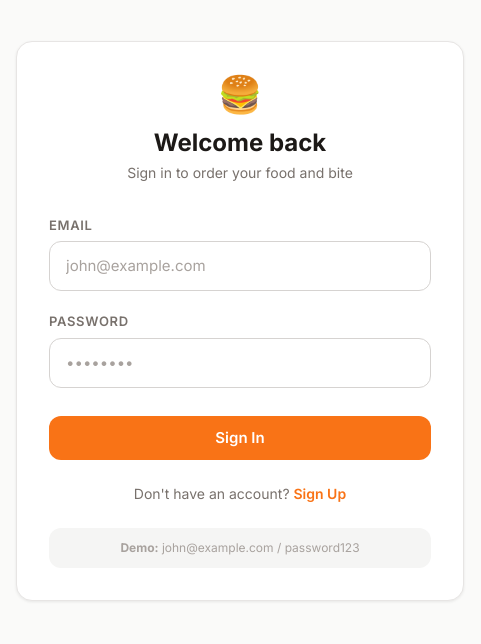
Scenario: LoginPage › shows error for invalid email format
Type "test@example" into the field labelled "Email" at (240, 266), box [49, 241, 431, 291]
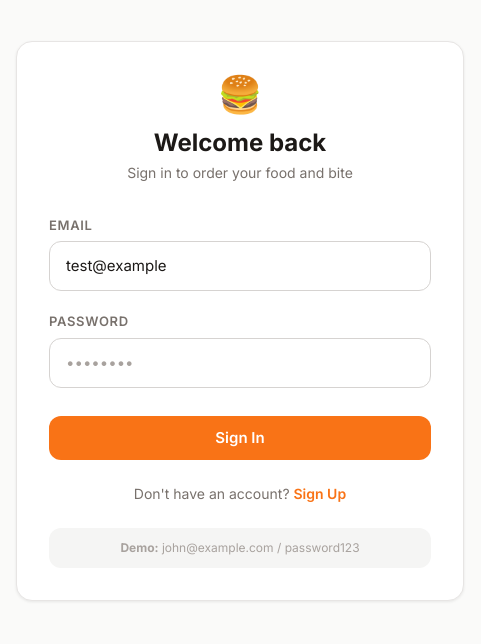
Click the button "Sign In" at (240, 438), box [49, 416, 431, 460]
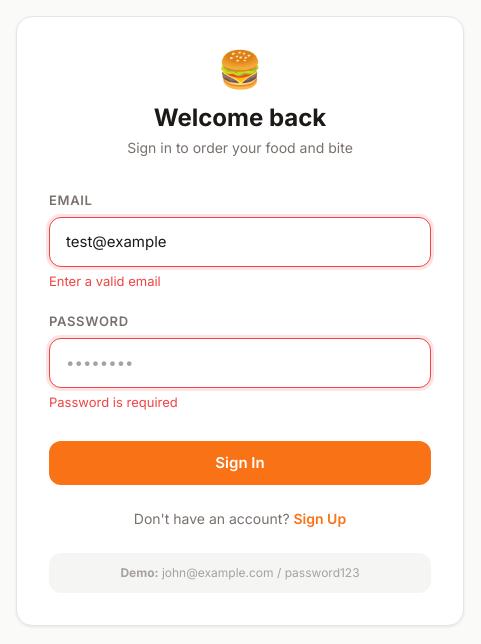
Now the text "Enter a valid email" is shown, box [49, 272, 161, 288]
